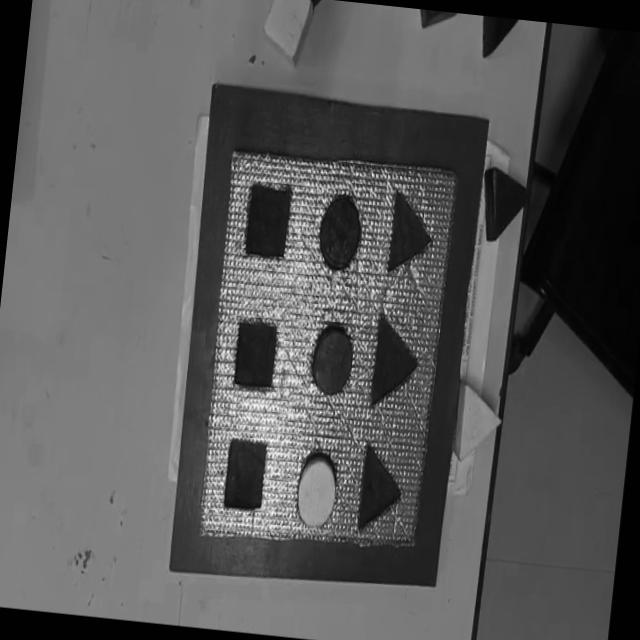bcircle: (319, 194, 360, 269)
btriangle: (478, 16, 520, 59)
mtcube: (240, 182, 293, 262), (228, 318, 280, 392), (222, 436, 268, 514)
mttriangle: (368, 310, 423, 412), (355, 441, 407, 537), (383, 190, 438, 278)
rcircle: (311, 326, 352, 395)
rtriangle: (475, 165, 529, 247)
wb: (192, 144, 459, 562)
ycircle: (297, 454, 335, 528)
ycube: (259, 0, 314, 67)
ytriangle: (451, 380, 506, 464)
